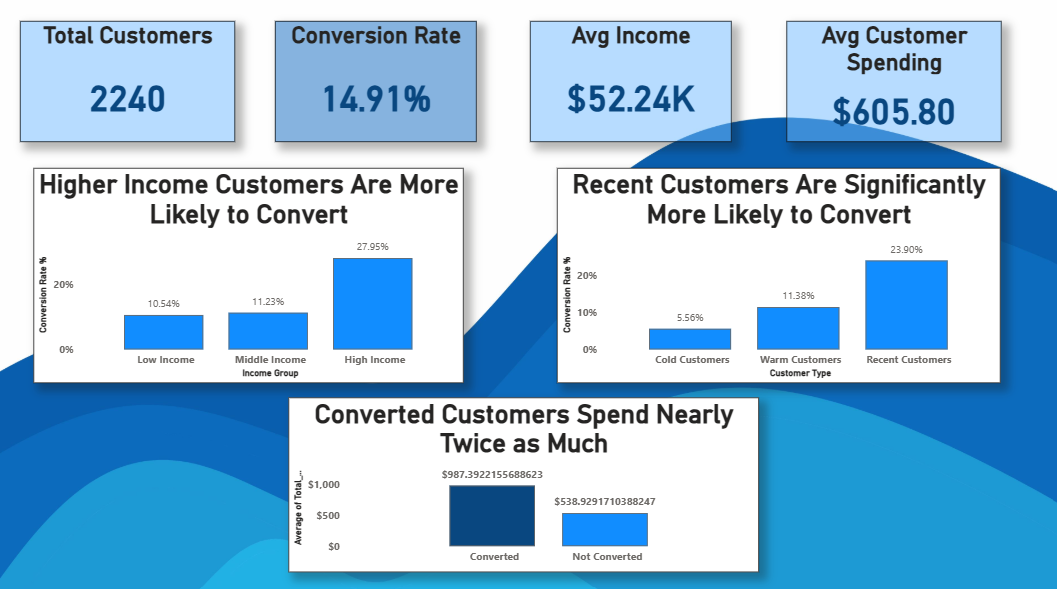

What the dashboard file says about the page in this screenshot:
{"tool":"powerbi","page":{"name":"CUSTOM","canvas":[1280,720],"ordinal":4},"visuals":[{"type":"card","title":"Total Customers","fields":{"Values":["CountNonNull(marketing_data.ID)"]},"box":[32,32,256,144],"z":0},{"type":"card","title":"Avg Income","fields":{"Values":["Avg(marketing_data.Income)"]},"box":[640,32,240,144],"z":1000},{"type":"card","title":"Avg Customer Spending","fields":{"Values":["Avg(marketing_data.Total_Spending)"]},"box":[944,32,256,144],"z":2000},{"type":"card","title":"Conversion Rate","fields":{"Values":["marketing_data.Conversion Rate %"]},"box":[336,32,240,144],"z":3000},{"type":"clusteredColumnChart","title":"Higher Income Customers Are More Likely to Convert","fields":{"Category":["marketing_data.Income Group"],"Y":["marketing_data.Conversion Rate %"]},"box":[48,208,512,256],"z":4000},{"type":"clusteredColumnChart","title":"Recent Customers Are Significantly More Likely to Convert","fields":{"Category":["marketing_data.Customer Type"],"Y":["marketing_data.Conversion Rate %"]},"box":[672,208,528,256],"z":5000},{"type":"clusteredColumnChart","title":"Converted Customers Spend Nearly Twice as Much","fields":{"Y":["Avg(marketing_data.Total_Spending)"],"Category":["marketing_data.Customer Status"]},"box":[352,480,560,208],"z":6000}]}

Visuals, with their boxes in screenshot pixels (x1, y1, x2, y2), scaled from the page's 1280x720 canvas onto the 1057x589 screenshot:
"Total Customers" card: detection(26, 26, 238, 144)
"Avg Income" card: detection(528, 26, 727, 144)
"Avg Customer Spending" card: detection(780, 26, 991, 144)
"Conversion Rate" card: detection(277, 26, 476, 144)
"Higher Income Customers Are More Likely to Convert" clusteredColumnChart: detection(40, 170, 462, 380)
"Recent Customers Are Significantly More Likely to Convert" clusteredColumnChart: detection(555, 170, 991, 380)
"Converted Customers Spend Nearly Twice as Much" clusteredColumnChart: detection(291, 393, 753, 563)
